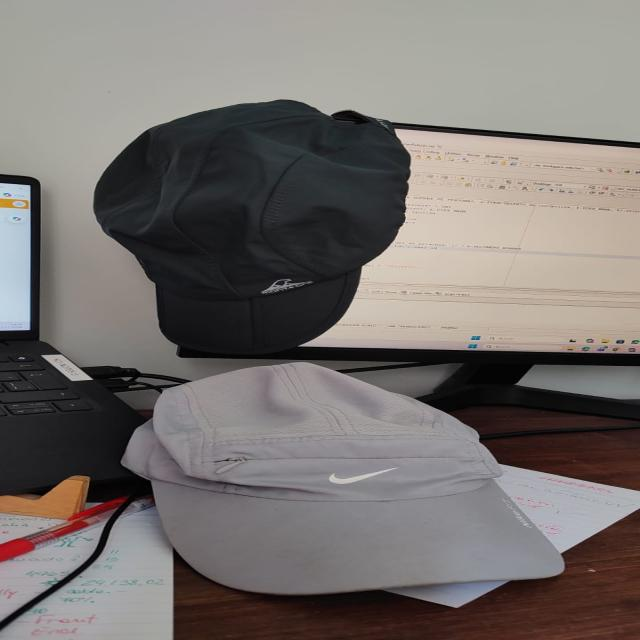Gorra: (80, 360, 593, 602), (82, 98, 458, 358)
